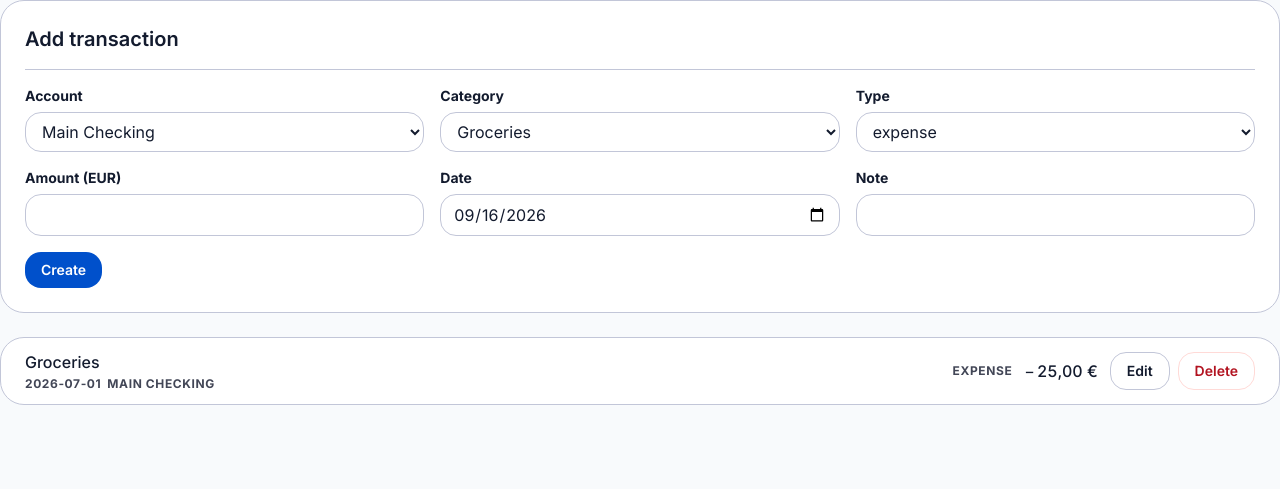
Test case: TransactionsContainer › creates a new transaction and refreshes the list
Expected: the list named "Transactions" is shown, [25,352,1255,391]
Type "10" into the field labelled "Amount (EUR)" at (225, 215), box [25,194,424,236]
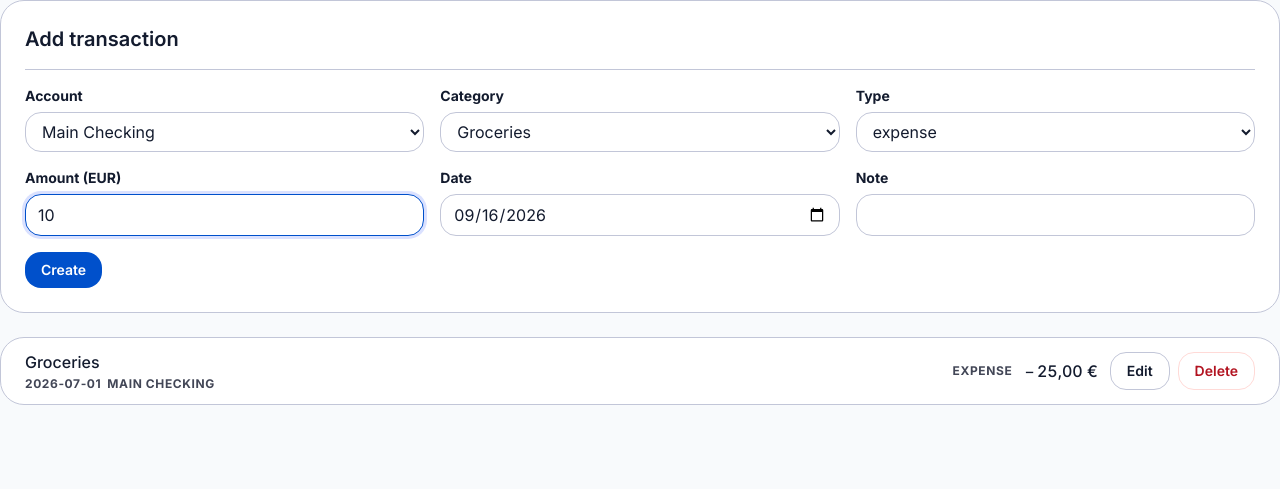
Click the button "Create" at (64, 270), box [25,252,102,288]
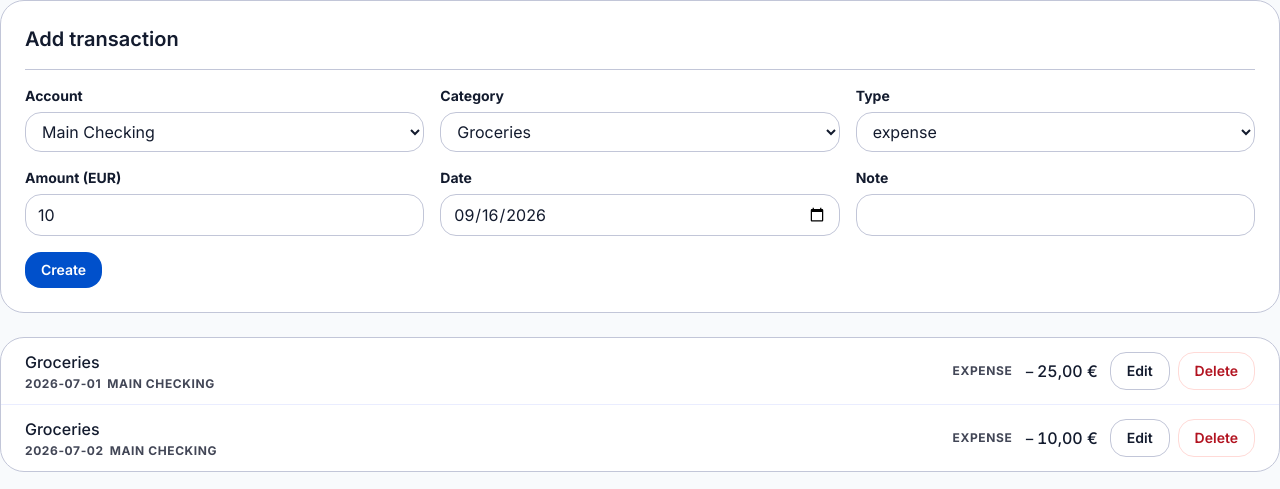
Now the text "10,00 €" is shown, box [1037,426,1098,450]
